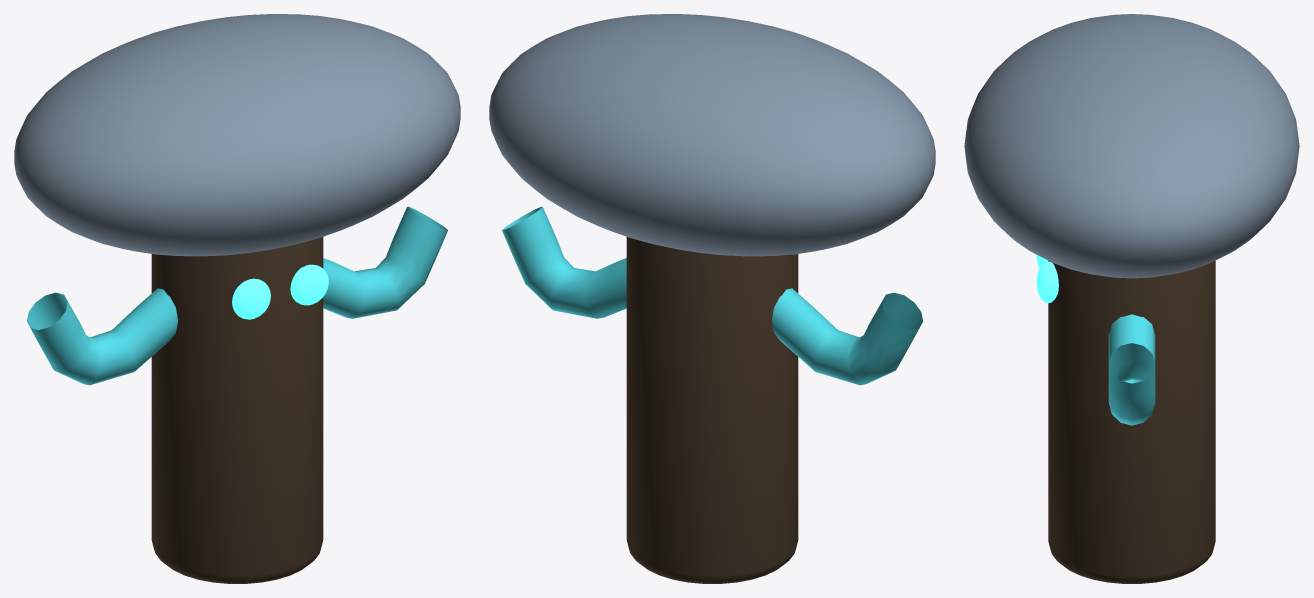
The model's file is plant_v4.glb.
3 renders of one model, left to right at view 1: azimuth 30°, elevation 25°; view 2: azimuth 150°, elevation 25°; view 3: azimuth 270°, elevation 25°, orthographic. The views are drawn at different scales.
Parts seen in each view (by area): view 1: MUSHROOM_CAP_PRIMARY, MUSHROOM_STALK_SECONDARY, MUSHROOM_ARM_ACCENT, MUSHROOM_ARM_ACCENT.001, EYE_EMISSIVE, EYE_EMISSIVE.001; view 2: MUSHROOM_CAP_PRIMARY, MUSHROOM_STALK_SECONDARY, MUSHROOM_ARM_ACCENT, MUSHROOM_ARM_ACCENT.001; view 3: MUSHROOM_CAP_PRIMARY, MUSHROOM_STALK_SECONDARY, MUSHROOM_ARM_ACCENT.001, EYE_EMISSIVE.001.
Part boxes in pixels (x1,y1,x2,y2): MUSHROOM_CAP_PRIMARY: (14,14,460,256); MUSHROOM_STALK_SECONDARY: (151,237,323,583); MUSHROOM_ARM_ACCENT: (27,288,177,385); MUSHROOM_ARM_ACCENT.001: (323,206,447,318); EYE_EMISSIVE: (232,278,270,319); EYE_EMISSIVE.001: (290,264,328,305); MUSHROOM_CAP_PRIMARY: (489,14,935,256); MUSHROOM_STALK_SECONDARY: (626,237,798,583); MUSHROOM_ARM_ACCENT: (772,288,922,385); MUSHROOM_ARM_ACCENT.001: (502,206,626,318); MUSHROOM_CAP_PRIMARY: (964,14,1299,278); MUSHROOM_STALK_SECONDARY: (1048,260,1215,583); MUSHROOM_ARM_ACCENT.001: (1108,314,1155,425); EYE_EMISSIVE.001: (1036,261,1058,303).
Bounding box in the file's own units: 2 × 2.35 × 1.44.
